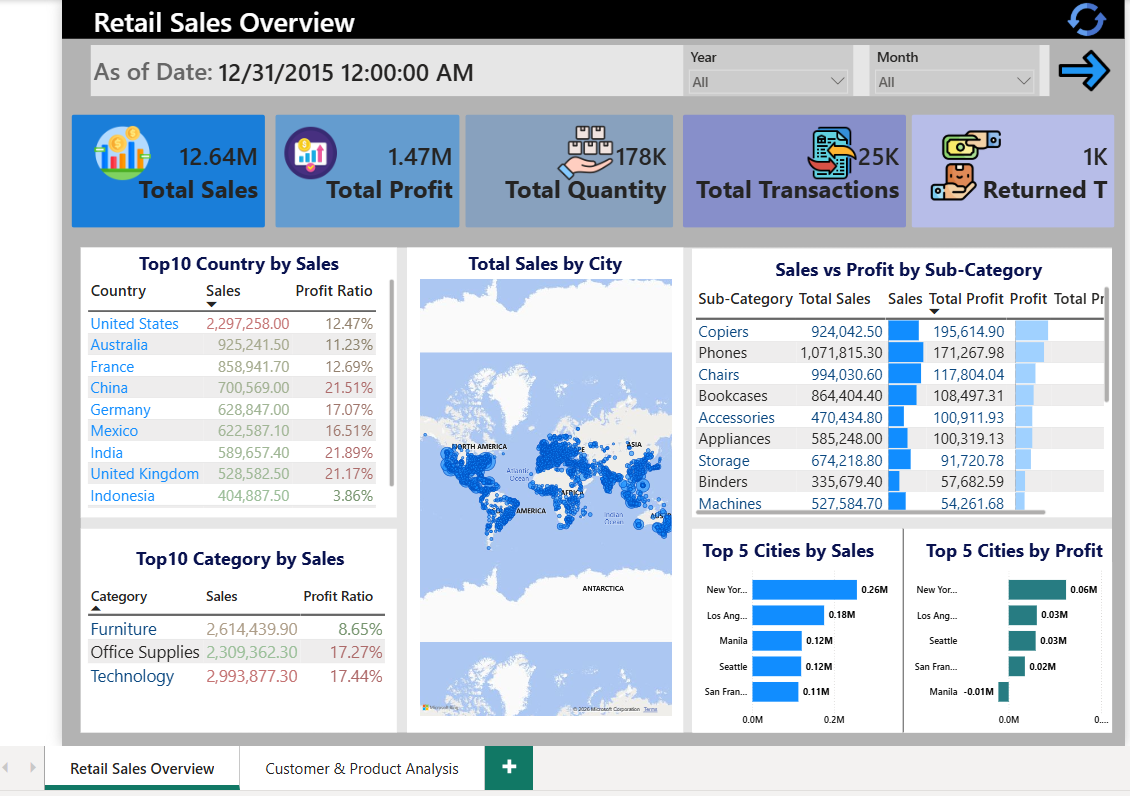

Layout of this report page (visuals, bound fields, positions):
{"tool":"powerbi","page":{"name":"Retail Sales Overview","canvas":[1880,1320],"ordinal":0},"visuals":[{"type":"shape","box":[0,0,1880,68.6],"z":0},{"type":"shape","box":[50.9,79.6,1696.5,90.7],"z":1000},{"type":"cardVisual","fields":{"Data":["DAX.Total Sales"]},"box":[0,185.8,376,234.5],"z":2000},{"type":"shape","box":[33.2,437.9,1824.7,858.2],"z":3000},{"type":"shape","box":[33.2,437.9,559.6,477.8],"z":4000},{"type":"shape","box":[610.5,437.9,488.8,858.2],"z":5000},{"type":"shape","box":[1114.8,440.1,743.2,475.5],"z":6000},{"type":"shape","box":[33.2,935.6,559.6,360.5],"z":7000},{"type":"shape","box":[1114.8,935.6,743.2,360.5],"z":8000},{"type":"cardVisual","fields":{"Data":["DAX.Total Quantity"]},"box":[696.7,185.8,402.5,234.5],"z":9000},{"type":"cardVisual","fields":{"Data":["DAX.Total Profit"]},"box":[360.5,185.8,360.5,234.5],"z":10000},{"type":"cardVisual","fields":{"Data":["DAX.As of Date"]},"box":[247.7,79.6,537.5,90.7],"z":11000},{"type":"textbox","box":[50.9,90.7,309.7,70.8],"z":12000},{"type":"cardVisual","fields":{"Data":["DAX.Total Transactions"]},"box":[1081.6,185.8,429.1,234.5],"z":13000},{"type":"cardVisual","fields":{"Data":["DAX.Returned Transactions"]},"box":[1486.3,185.8,393.7,234.5],"z":14000},{"type":"image","box":[33.2,221.2,148.2,99.5],"z":15000},{"type":"image","box":[376,221.2,128.3,99.5],"z":16000},{"type":"image","box":[822.8,221.2,205.7,99.5],"z":17000},{"type":"image","box":[1296.1,221.2,132.7,99.5],"z":18000},{"type":"image","box":[1537.2,221.2,123.9,143.8],"z":19000},{"type":"tableEx","fields":{"Values":["Orders.Country","Sum(Orders.Sales)","DAX.Total Profit Ratio"]},"box":[39.8,488.8,553,413.6],"z":20000},{"type":"textbox","box":[68.6,437.9,488.8,70.8],"z":21000},{"type":"tableEx","fields":{"Values":["Orders.Category","Sum(Orders.Sales)","DAX.Total Profit Ratio"]},"box":[39.8,1030.7,553,219],"z":22000},{"type":"textbox","box":[70.8,959.9,488.8,70.8],"z":23000},{"type":"map","fields":{"Category":["Orders.City"],"Size":["DAX.Total Sales"]},"box":[628.2,488.8,455.6,783],"z":24000},{"type":"textbox","box":[610.5,437.9,488.8,70.8],"z":25000},{"type":"tableEx","fields":{"Values":["Orders.Sub-Category","DAX.Total Sales","Sum(Orders.Sales)","DAX.Total Profit","Sum(Orders.Profit)","DAX.Total Profit Ratio"]},"box":[1114.8,502.1,743.2,413.6],"z":26000},{"type":"textbox","box":[1477.5,946.7,369.4,70.8],"z":27000},{"type":"image","box":[1747.3,0,132.7,68.6],"z":28000},{"type":"barChart","fields":{"Category":["Orders.City"],"Y":["DAX.Total Sales"]},"box":[1117,995.3,369.4,300.8],"z":29000},{"type":"textbox","box":[1253,447.9,488.8,70.8],"z":30000},{"type":"barChart","fields":{"Category":["Orders.City"],"Y":["DAX.Total Profit"]},"box":[1488.5,995.3,369.4,300.8],"z":31000},{"type":"textbox","box":[1127,945.6,369.4,70.8],"z":32000},{"type":"shape","box":[1477.5,935.6,22.1,360.5],"z":33000},{"type":"textbox","box":[50.9,0,577.3,79.6],"z":34000},{"type":"slicer","fields":{"Values":["Date_Table.Year"]},"box":[1099.3,79.6,300.8,90.7],"z":35000},{"type":"slicer","fields":{"Values":["Date_Table.Date.Variation.Date Hierarchy.Month"]},"box":[1428.8,79.6,300.8,90.7],"z":36000},{"type":"image","box":[1742.9,79.6,132.7,90.7],"z":37000}]}

Visuals, with their boxes on the page's 1880x1320 design canvas (x1, y1, x2, y2). These are canvas units, not pixel positions in the 1130x796 screenshot, which may show the page scaled, cropped or inside an application window:
shape: pyautogui.locateOnScreen(0, 0, 1880, 69)
shape: pyautogui.locateOnScreen(51, 80, 1747, 170)
cardVisual - DAX.Total Sales: pyautogui.locateOnScreen(0, 186, 376, 420)
shape: pyautogui.locateOnScreen(33, 438, 1858, 1296)
shape: pyautogui.locateOnScreen(33, 438, 593, 916)
shape: pyautogui.locateOnScreen(610, 438, 1099, 1296)
shape: pyautogui.locateOnScreen(1115, 440, 1858, 916)
shape: pyautogui.locateOnScreen(33, 936, 593, 1296)
shape: pyautogui.locateOnScreen(1115, 936, 1858, 1296)
cardVisual - DAX.Total Quantity: pyautogui.locateOnScreen(697, 186, 1099, 420)
cardVisual - DAX.Total Profit: pyautogui.locateOnScreen(360, 186, 721, 420)
cardVisual - DAX.As of Date: pyautogui.locateOnScreen(248, 80, 785, 170)
textbox: pyautogui.locateOnScreen(51, 91, 361, 162)
cardVisual - DAX.Total Transactions: pyautogui.locateOnScreen(1082, 186, 1511, 420)
cardVisual - DAX.Returned Transactions: pyautogui.locateOnScreen(1486, 186, 1880, 420)
image: pyautogui.locateOnScreen(33, 221, 181, 321)
image: pyautogui.locateOnScreen(376, 221, 504, 321)
image: pyautogui.locateOnScreen(823, 221, 1028, 321)
image: pyautogui.locateOnScreen(1296, 221, 1429, 321)
image: pyautogui.locateOnScreen(1537, 221, 1661, 365)
tableEx - Orders.Country x Sum(Orders.Sales): pyautogui.locateOnScreen(40, 489, 593, 902)
textbox: pyautogui.locateOnScreen(69, 438, 557, 509)
tableEx - Orders.Category x Sum(Orders.Sales): pyautogui.locateOnScreen(40, 1031, 593, 1250)
textbox: pyautogui.locateOnScreen(71, 960, 560, 1031)
map - Orders.City x DAX.Total Sales: pyautogui.locateOnScreen(628, 489, 1084, 1272)
textbox: pyautogui.locateOnScreen(610, 438, 1099, 509)
tableEx - Orders.Sub-Category x DAX.Total Sales: pyautogui.locateOnScreen(1115, 502, 1858, 916)
textbox: pyautogui.locateOnScreen(1478, 947, 1847, 1018)
image: pyautogui.locateOnScreen(1747, 0, 1880, 69)
barChart - Orders.City x DAX.Total Sales: pyautogui.locateOnScreen(1117, 995, 1486, 1296)
textbox: pyautogui.locateOnScreen(1253, 448, 1742, 519)
barChart - Orders.City x DAX.Total Profit: pyautogui.locateOnScreen(1488, 995, 1858, 1296)
textbox: pyautogui.locateOnScreen(1127, 946, 1496, 1016)
shape: pyautogui.locateOnScreen(1478, 936, 1500, 1296)
textbox: pyautogui.locateOnScreen(51, 0, 628, 80)
slicer - Date_Table.Year: pyautogui.locateOnScreen(1099, 80, 1400, 170)
slicer - Date_Table.Date.Variation.Date Hierarchy.Month: pyautogui.locateOnScreen(1429, 80, 1730, 170)
image: pyautogui.locateOnScreen(1743, 80, 1876, 170)
